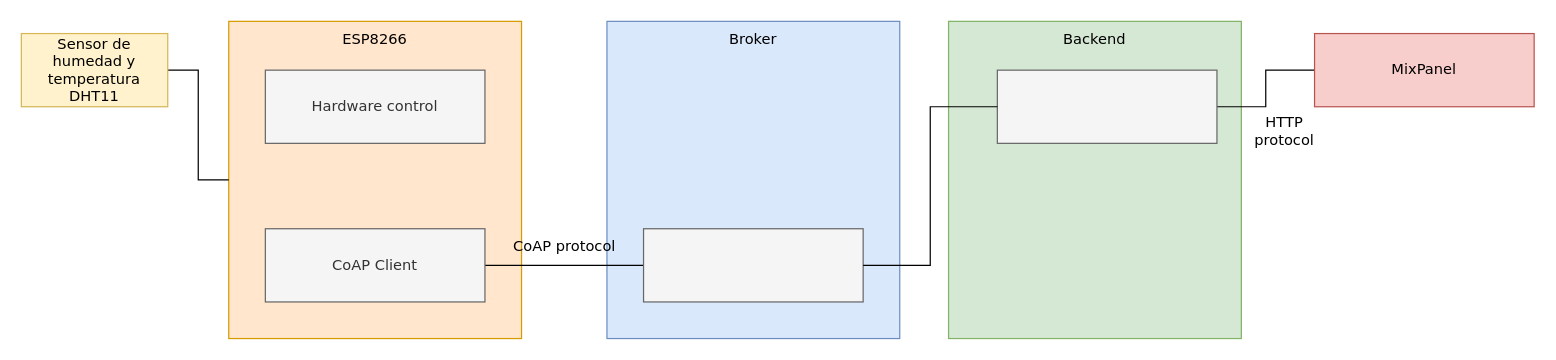
Image size: 1556x360. Some labels were removed from this diagram. The shapes that lost their labels are listed below. From the top down, each one's box as (x1, y1, x2, y2) in pixels, then its label:
(996, 69, 1217, 143): HTTP API Server
(642, 228, 863, 302): Python Server
